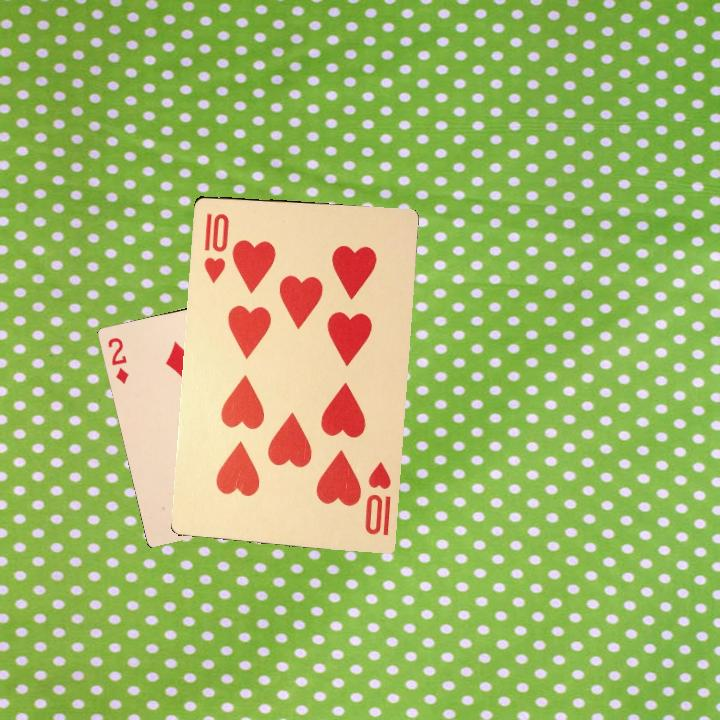10h: (361, 459, 394, 539), (200, 209, 232, 286)
2d: (104, 333, 131, 386)
